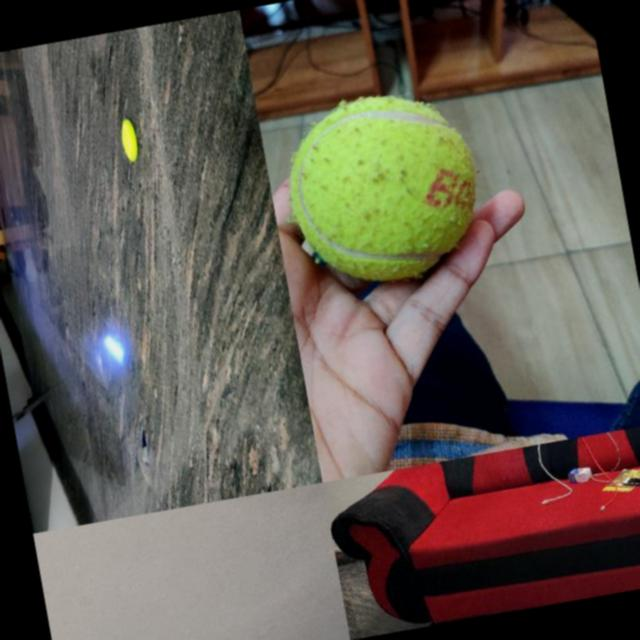tennis-ball: (272, 80, 490, 298), (118, 116, 140, 162)
